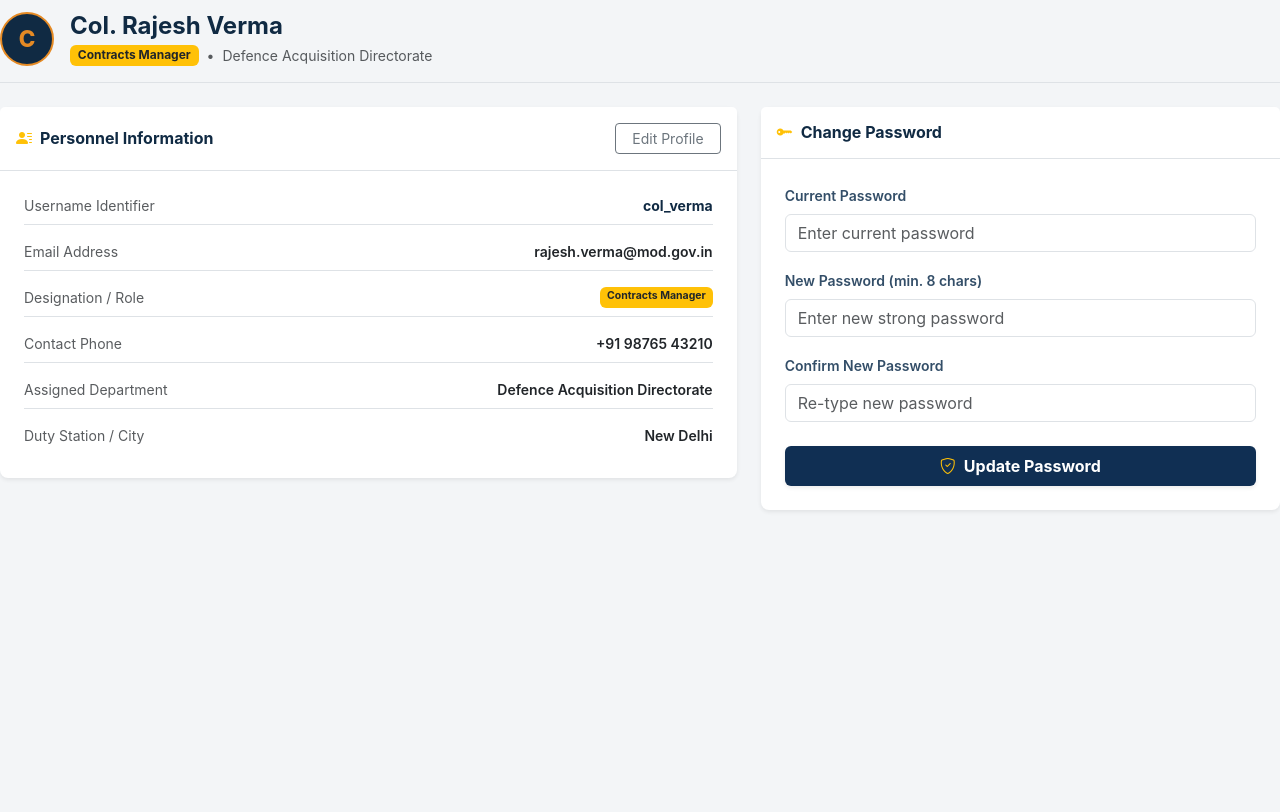
Phase 3 — Authentication & Application Layout Suite › ProfilePage Security & Profile Settings › validates password mismatch on password change form
In the password field with placeholder "Enter current password": point(1020, 233) [785,214,1256,252], type "oldpass123"
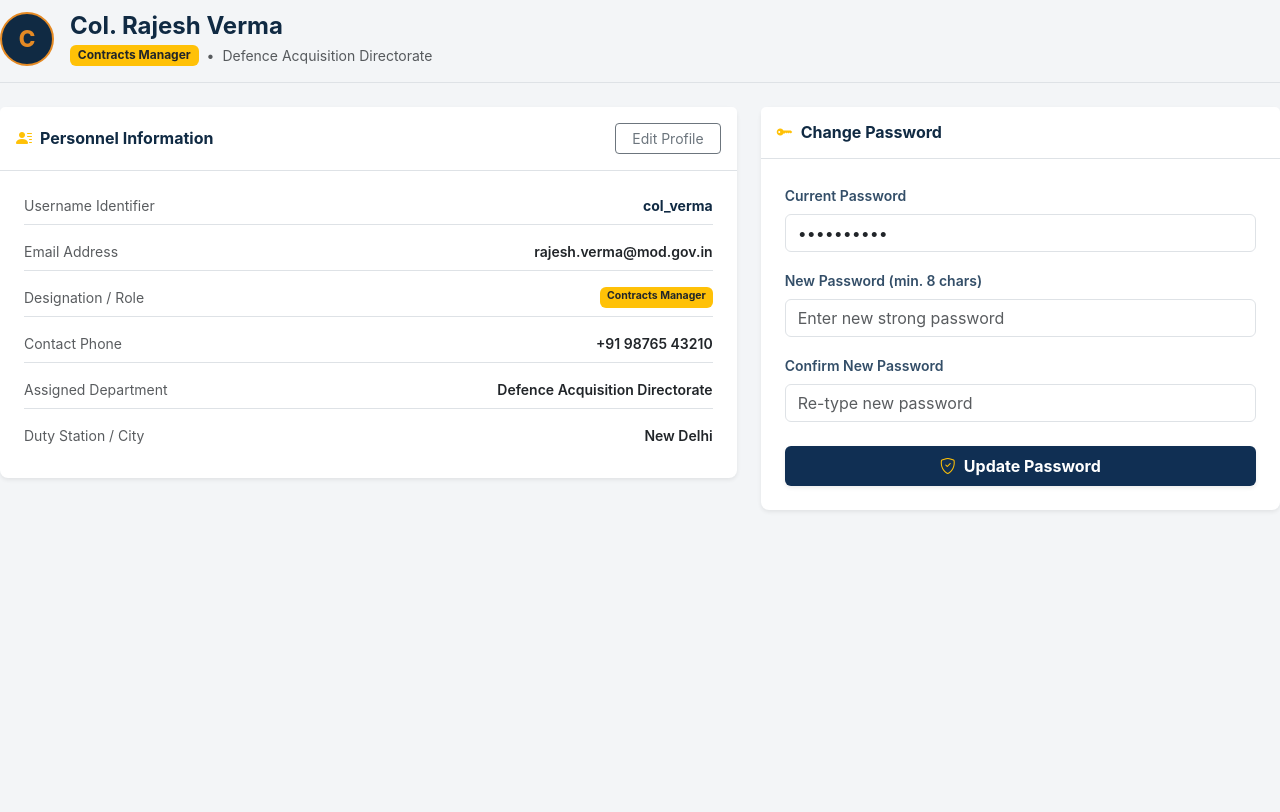
In the password field with placeholder "Enter new strong password": point(1020, 318) [785,299,1256,337], type "newsecret123"
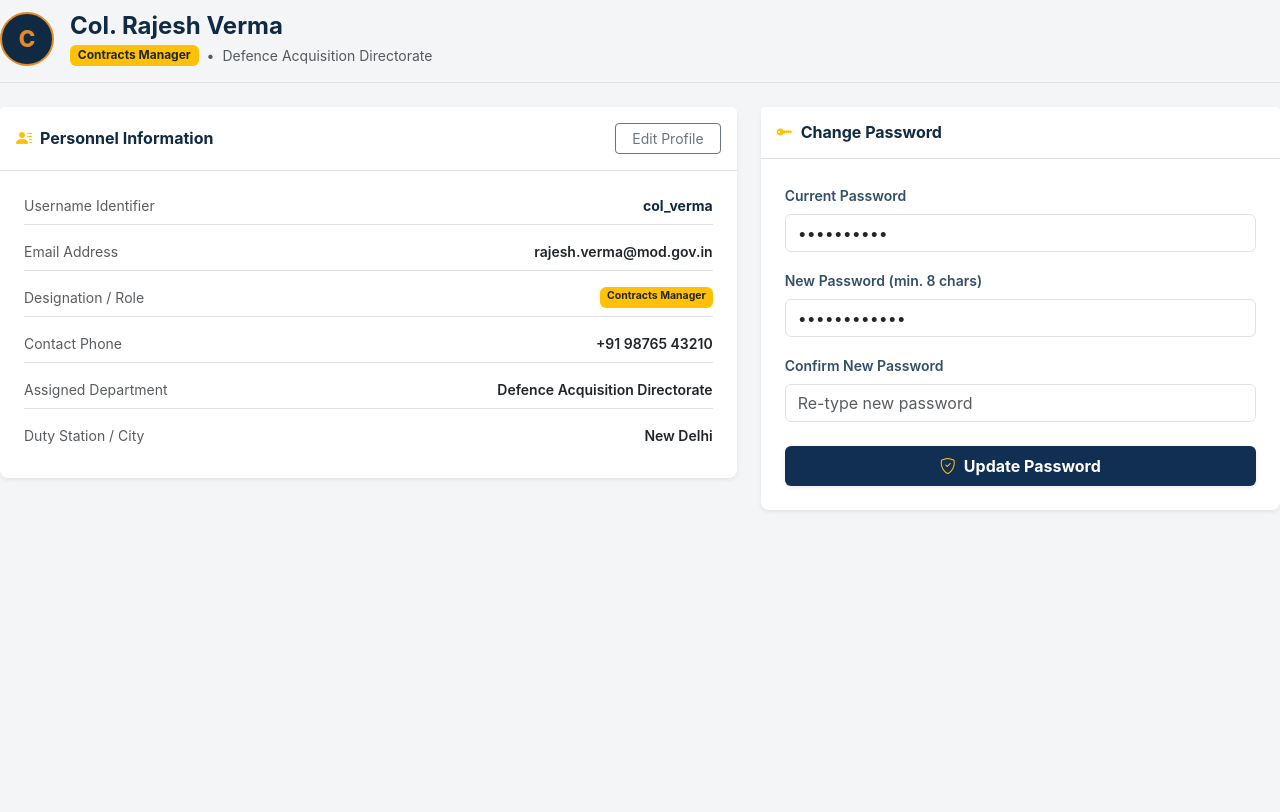
In the password field with placeholder "Re-type new password": point(1020, 403) [785,384,1256,422], type "mismatch456"
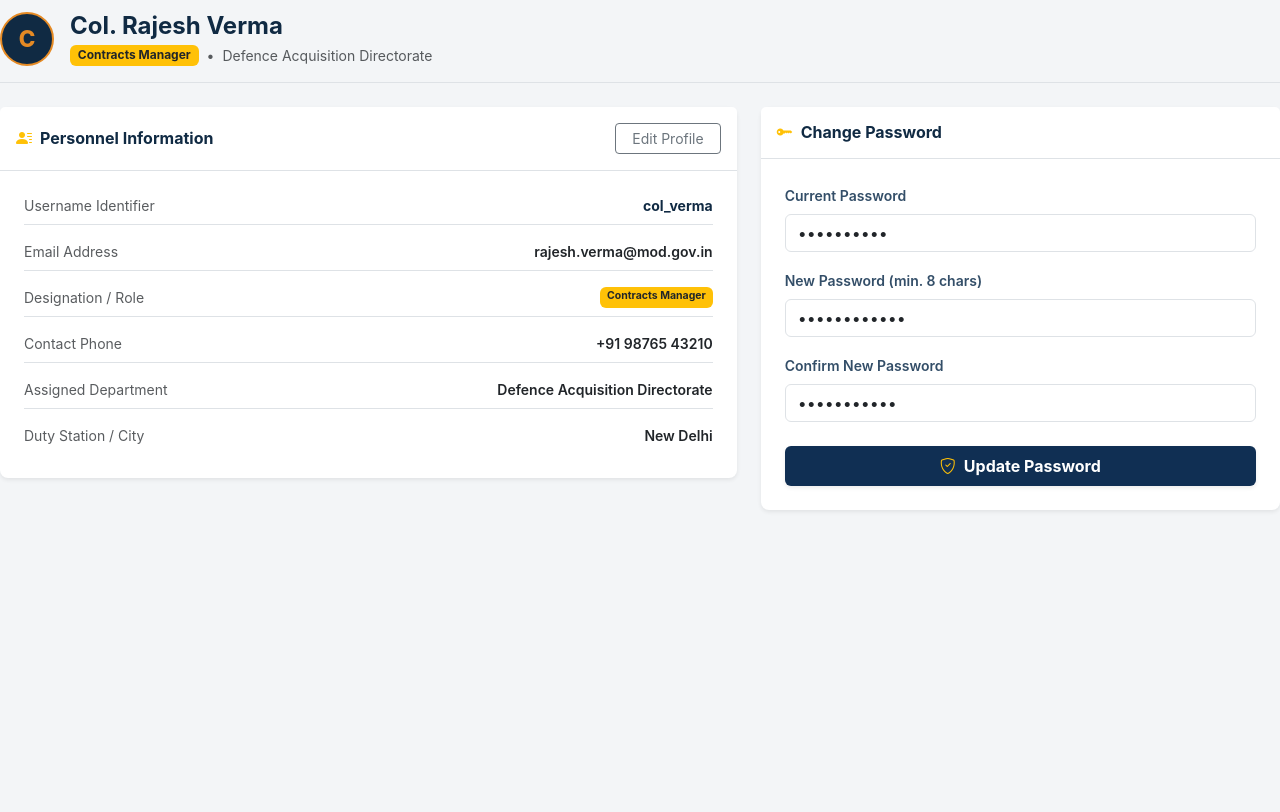
Click the button "Update Password": point(1020, 466) [785,446,1256,486]
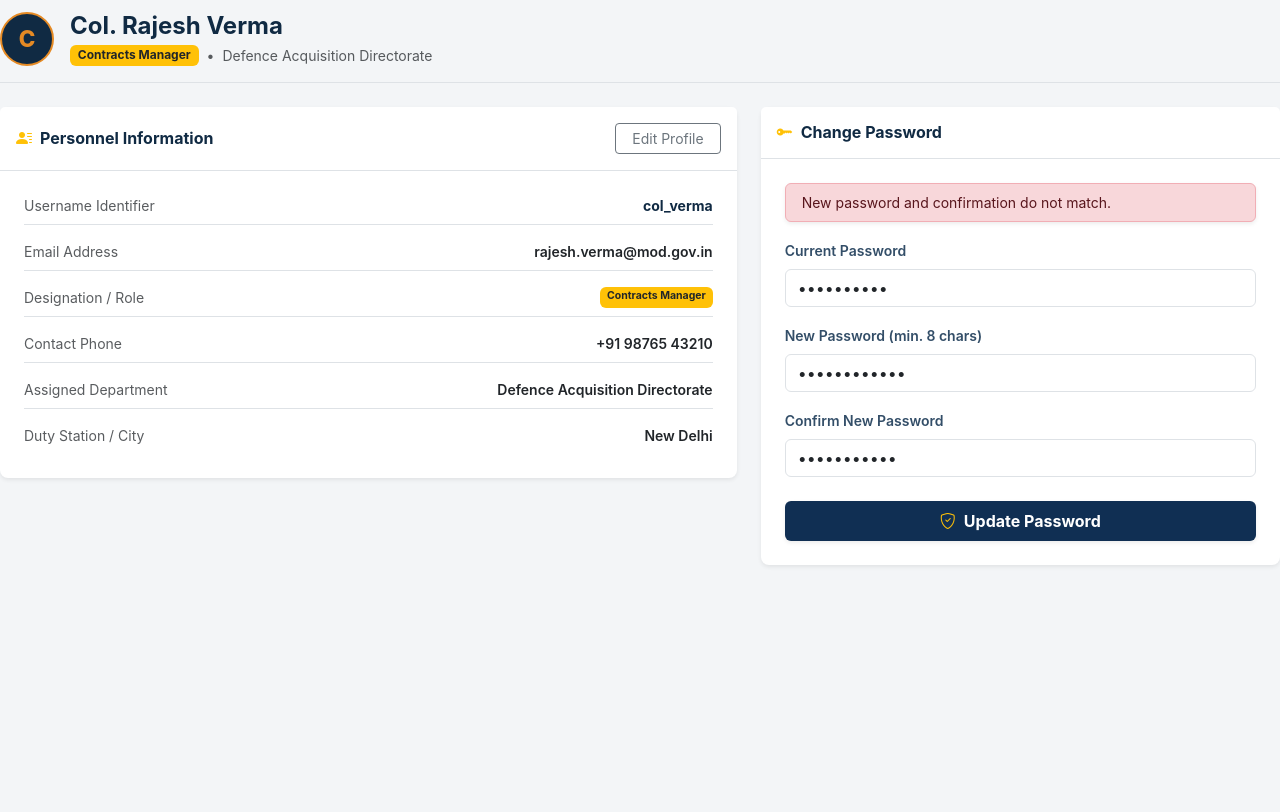
Result: the text "New password and confirmation do not match." is shown at [785,183,1256,222]
